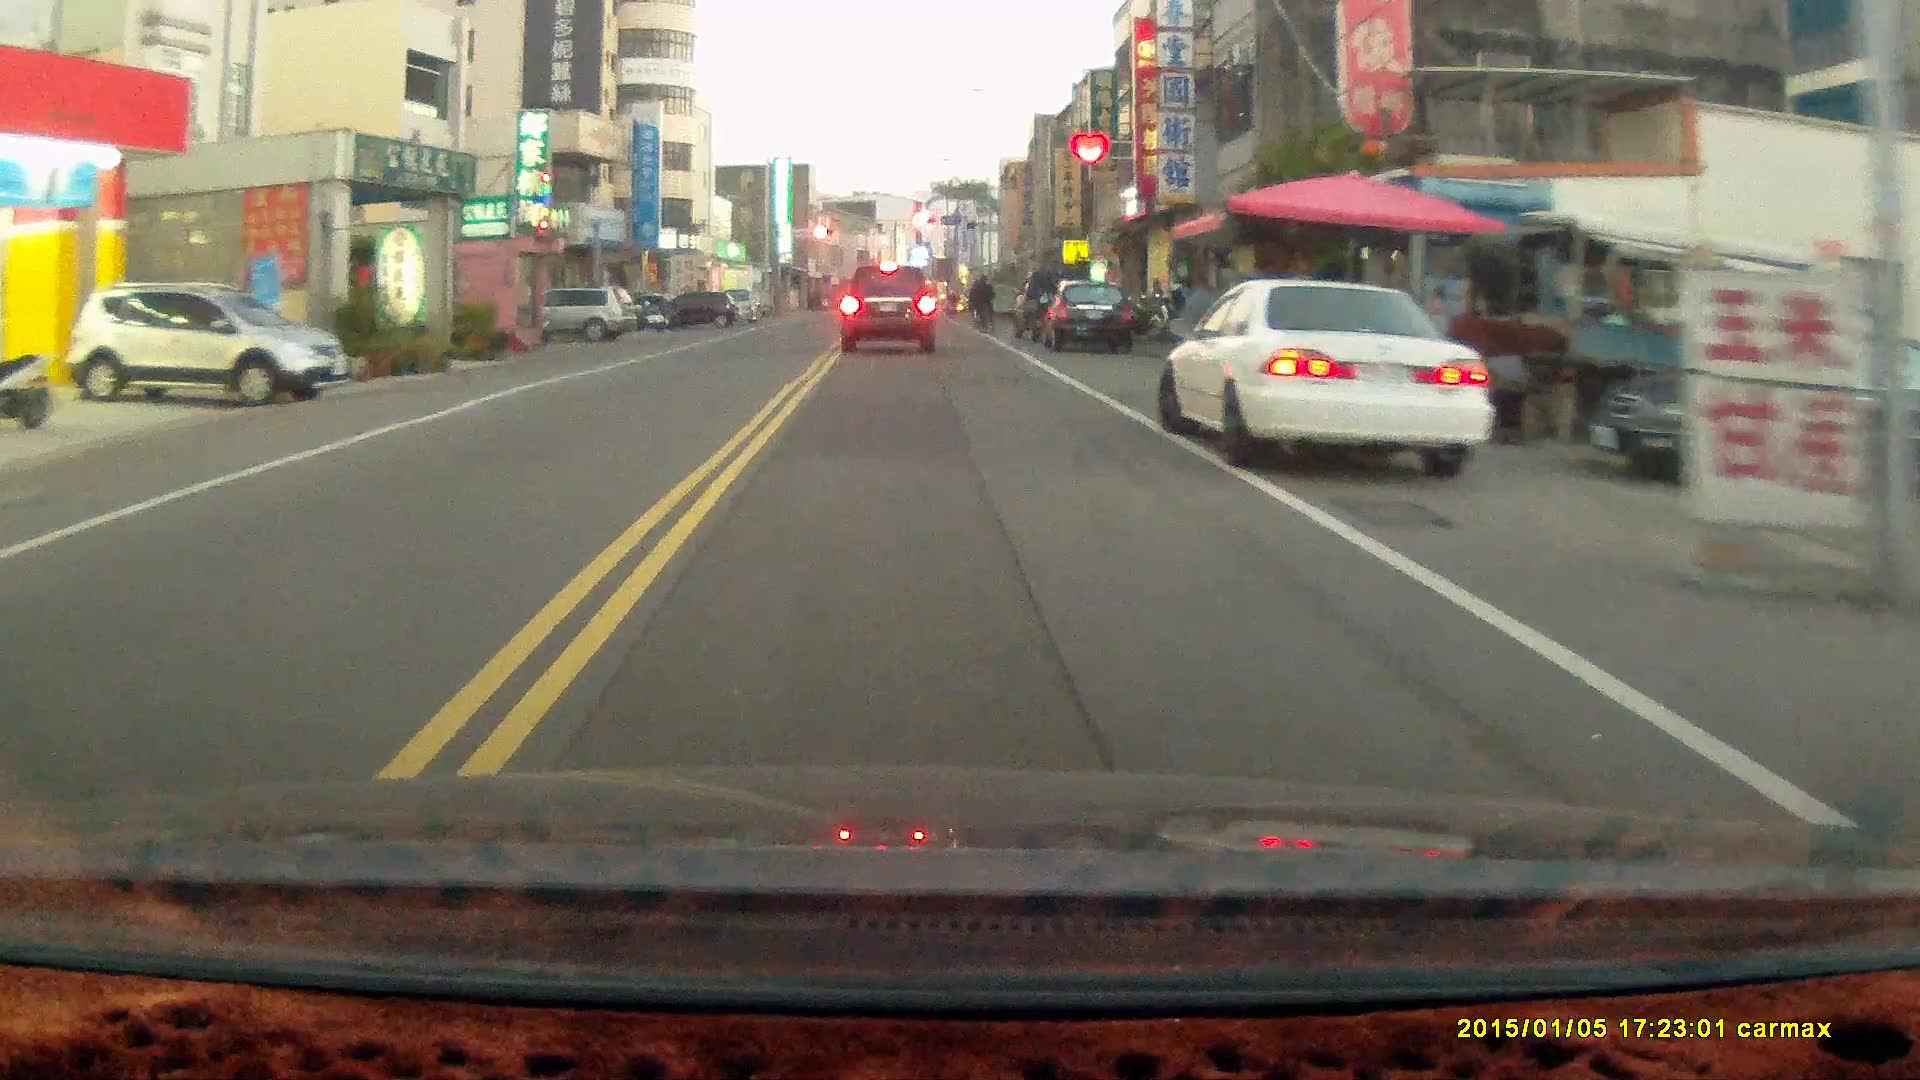rider: (969, 275, 996, 335)
vehicle: (1160, 277, 1493, 474), (62, 285, 332, 417), (840, 262, 940, 358), (1045, 282, 1141, 353), (539, 288, 637, 342)
